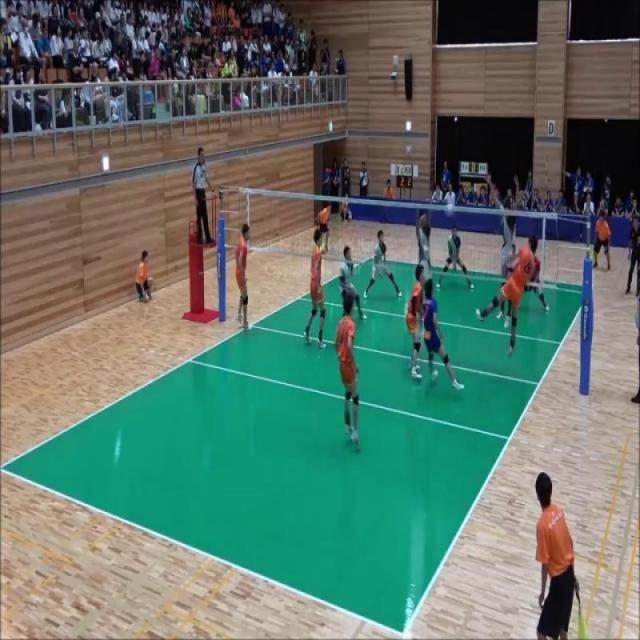volleyball: (444, 201, 455, 218)
